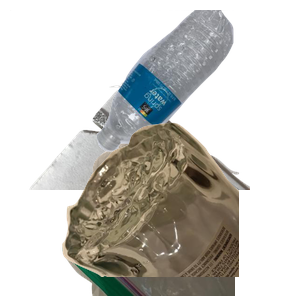glass: (60, 120, 300, 300)
paper: (10, 10, 250, 190)
plastic: (94, 10, 300, 154)
trash: (60, 120, 300, 300)
